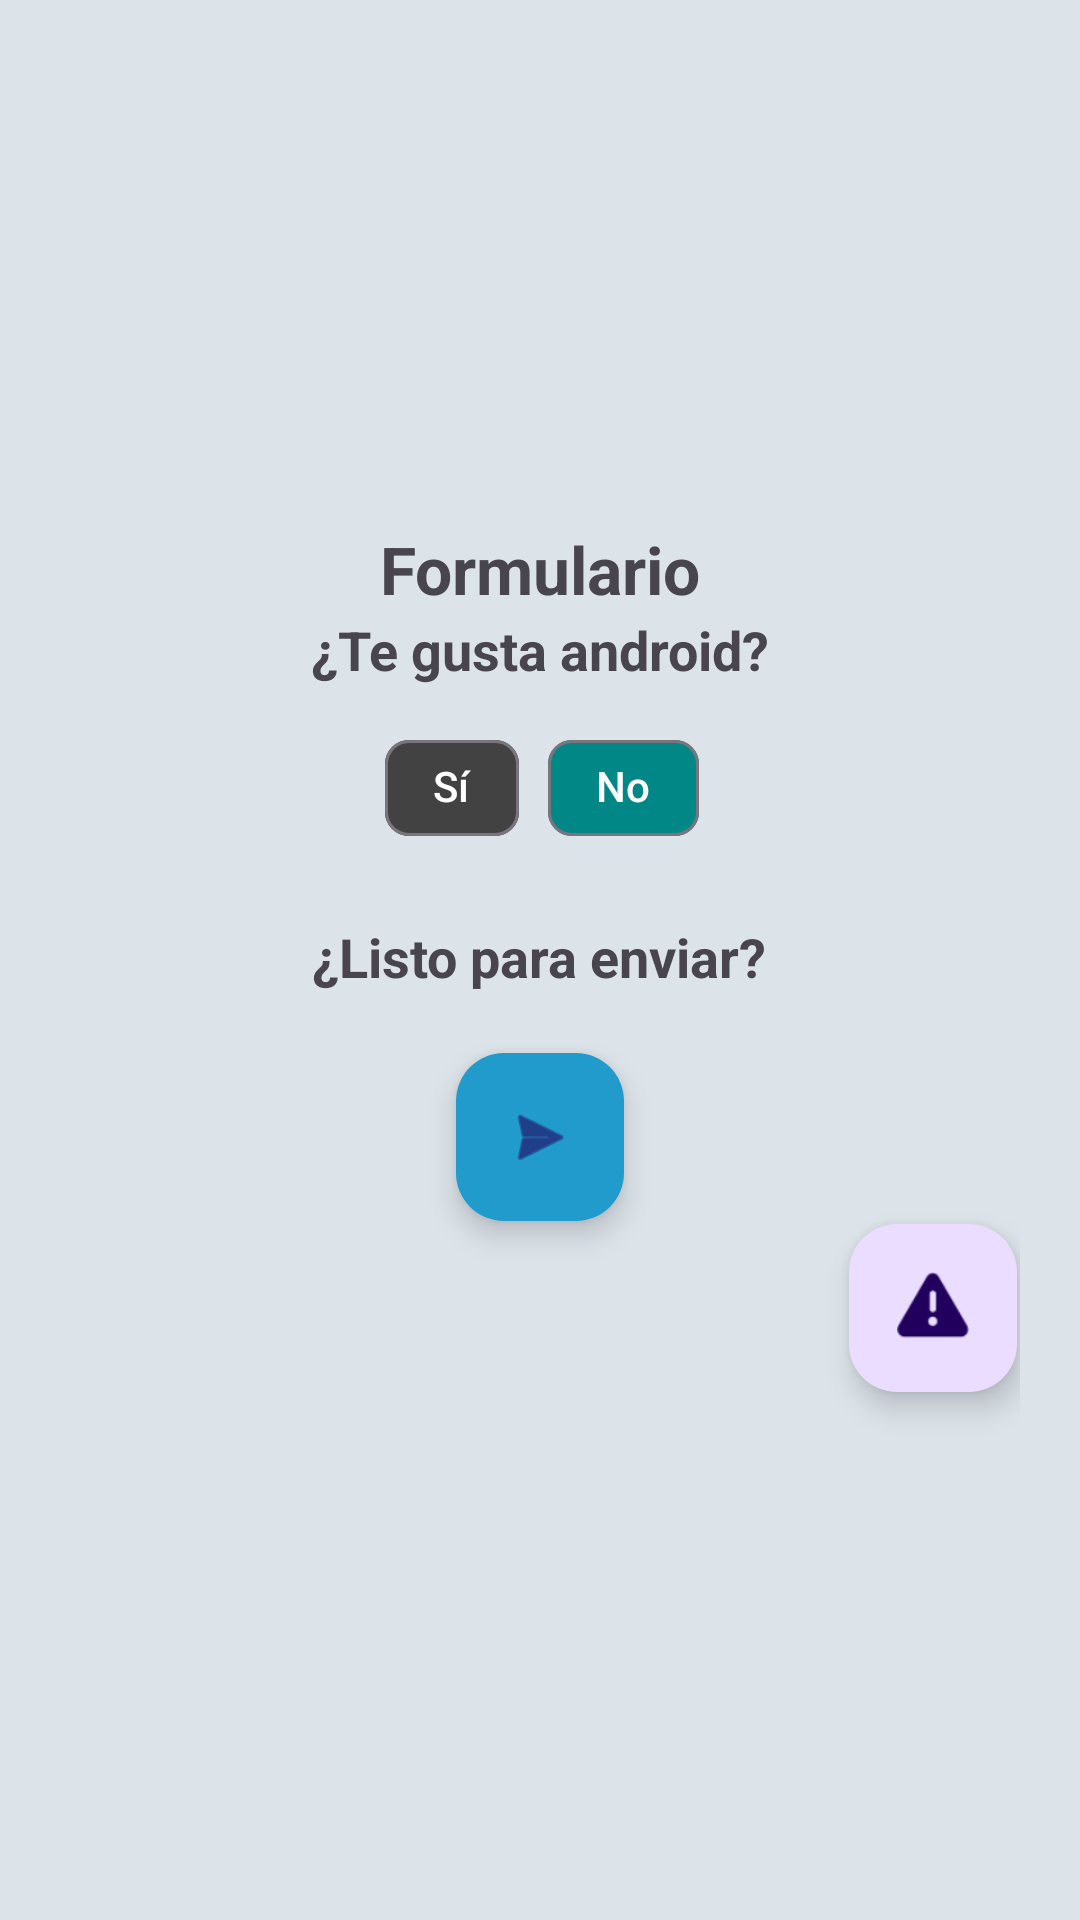

Icon click points for this 1080 × 1920 phone screenshot, format (x=x, y=y):
Botón para enviar respuestas: (x=540, y=1137)
